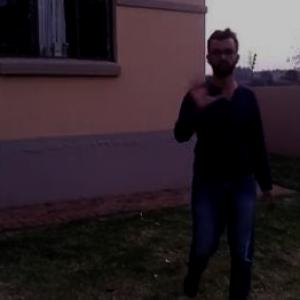follow_hand: (181, 66, 223, 110)
